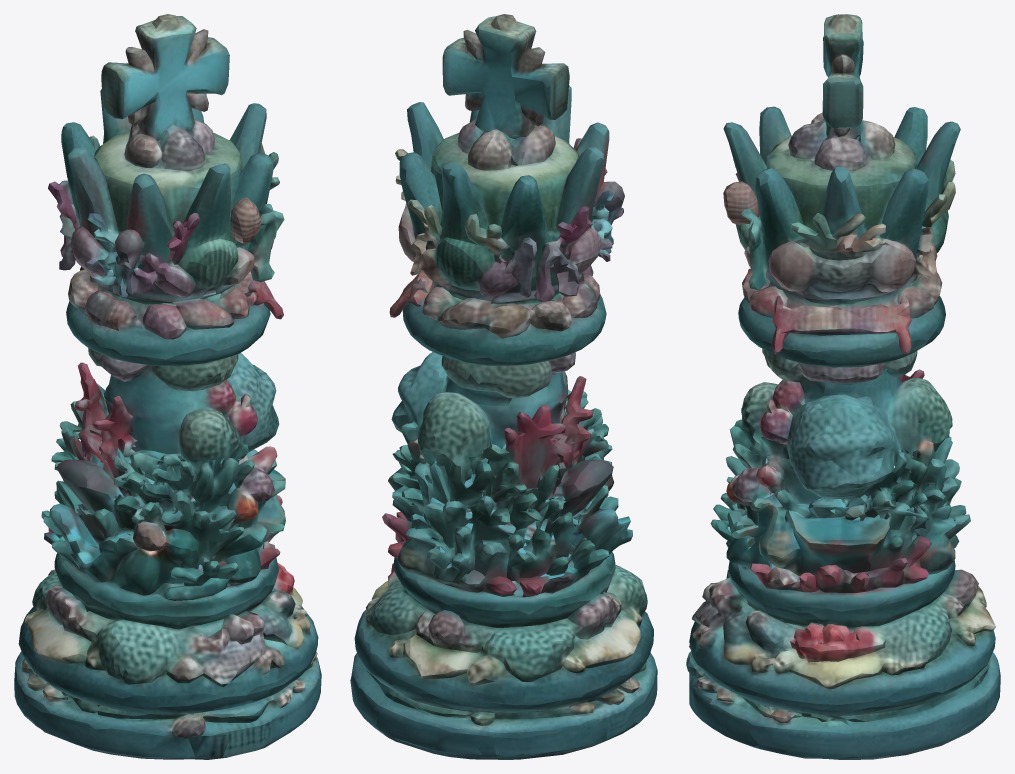
3 renders of one model, left to right at view 1: azimuth 30°, elevation 25°; view 2: azimuth 150°, elevation 25°; view 3: azimuth 270°, elevation 25°, orthographic.
Parts seen in each view (by area): view 1: world; view 2: world; view 3: world.
Boxes of the visible parts, x1=… form: world: x1=14, y1=14, x2=321, y2=759; world: x1=350, y1=14, x2=657, y2=759; world: x1=686, y1=14, x2=1000, y2=759.
Size of the model in its own units: 0.0982 by 0.24 by 0.1002.
1 material, 1 textured.
